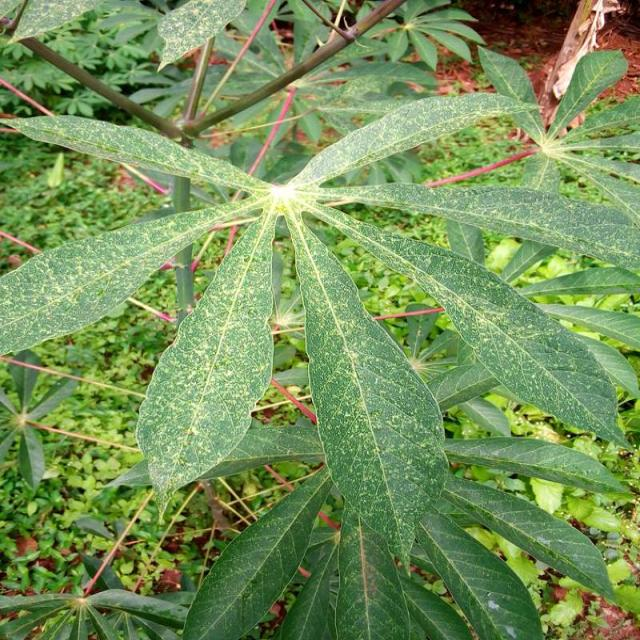cassava leaf: (286, 208, 452, 575), (136, 203, 278, 522)
